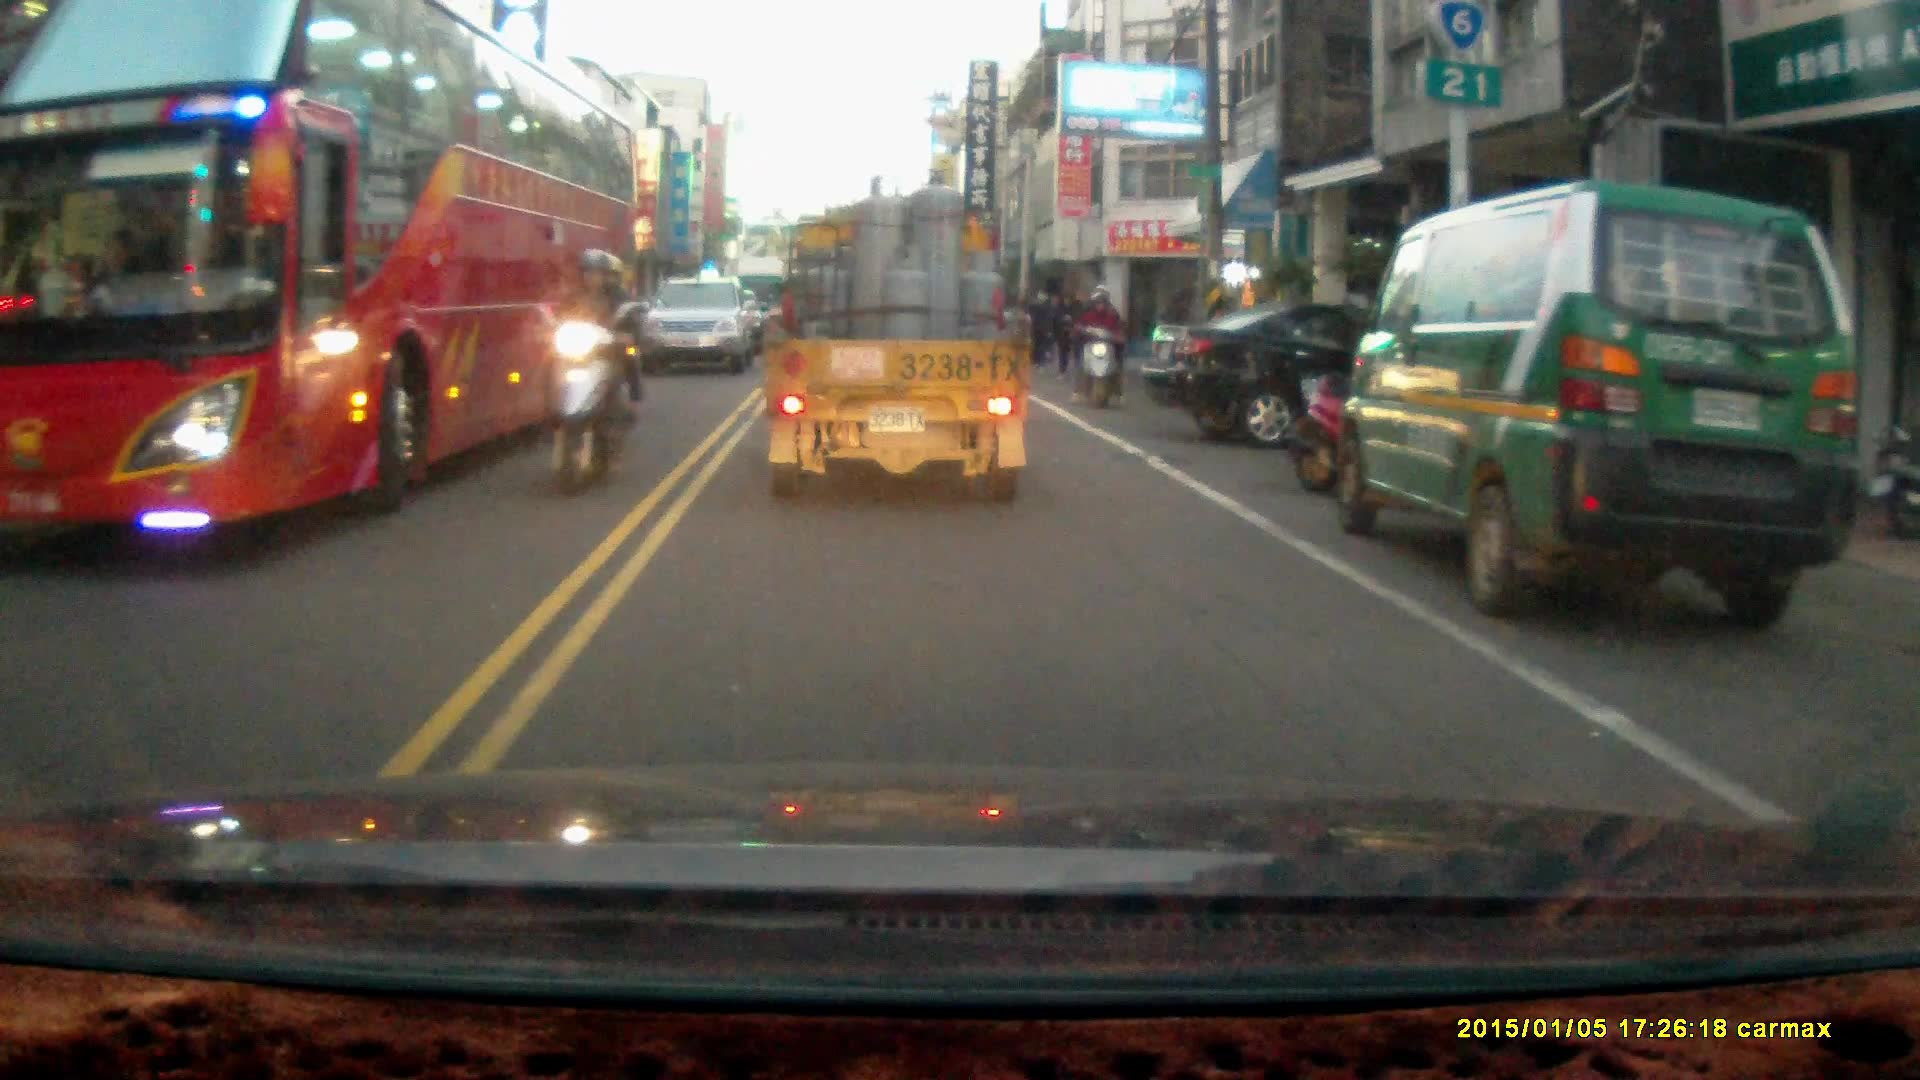pedestrian: (1051, 288, 1077, 378)
rider: (530, 246, 644, 500), (1071, 283, 1129, 410)
vehicle: (1, 7, 646, 544), (1339, 176, 1877, 626), (757, 168, 1038, 504), (1158, 295, 1364, 453), (642, 276, 759, 379)
